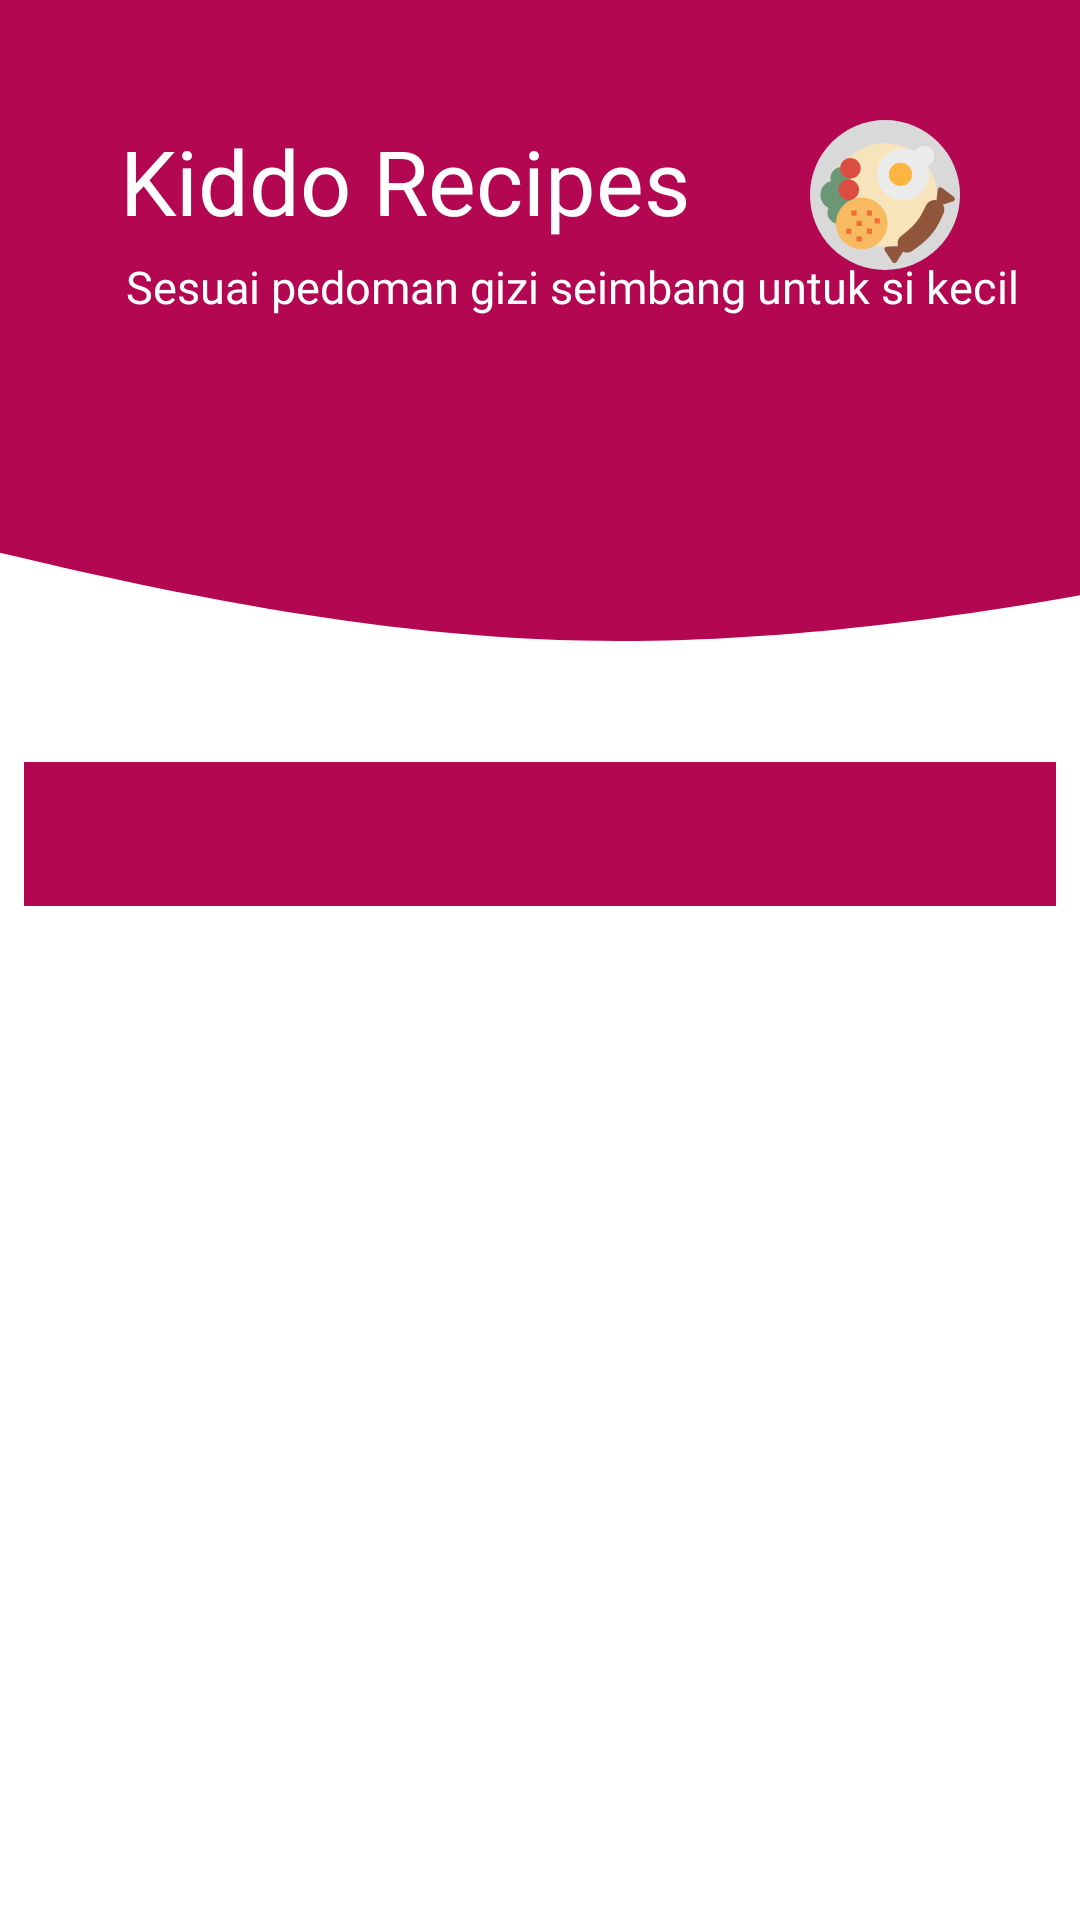

Icons on this 1080w x 1920h Android screen, each with its box as box(x1, y1, x2, y2):
breakfast: box(810, 120, 960, 270)
